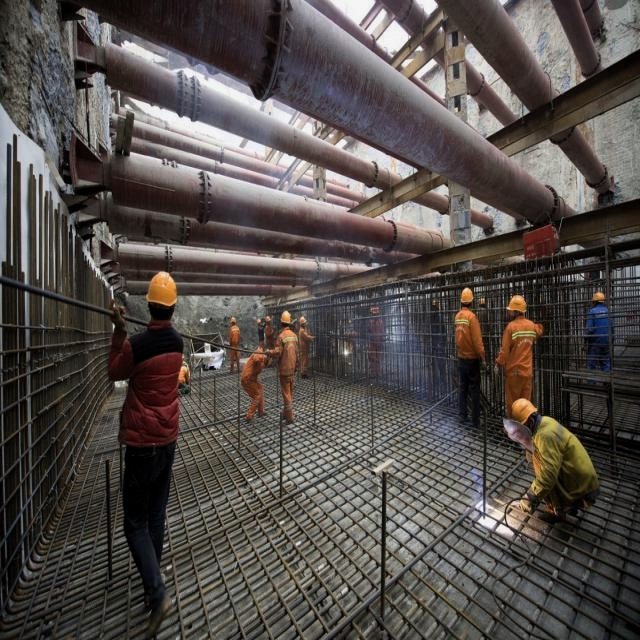Con_Casco: (145, 269, 179, 320), (512, 398, 538, 440), (505, 294, 526, 320), (460, 287, 474, 309), (280, 311, 291, 329)
Sin_Chaleco: (122, 325, 190, 446)
